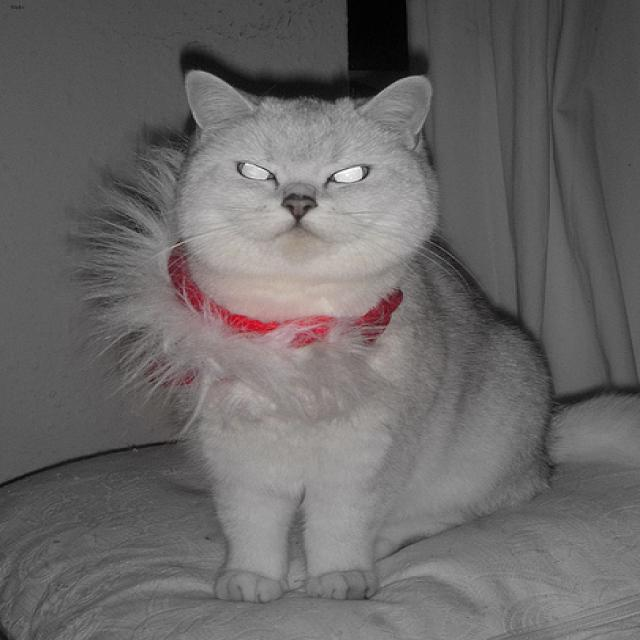British_Shorthair: (177, 64, 447, 302)
